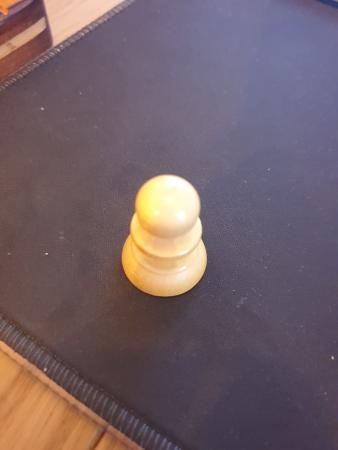wpawn: (120, 175, 208, 298)
